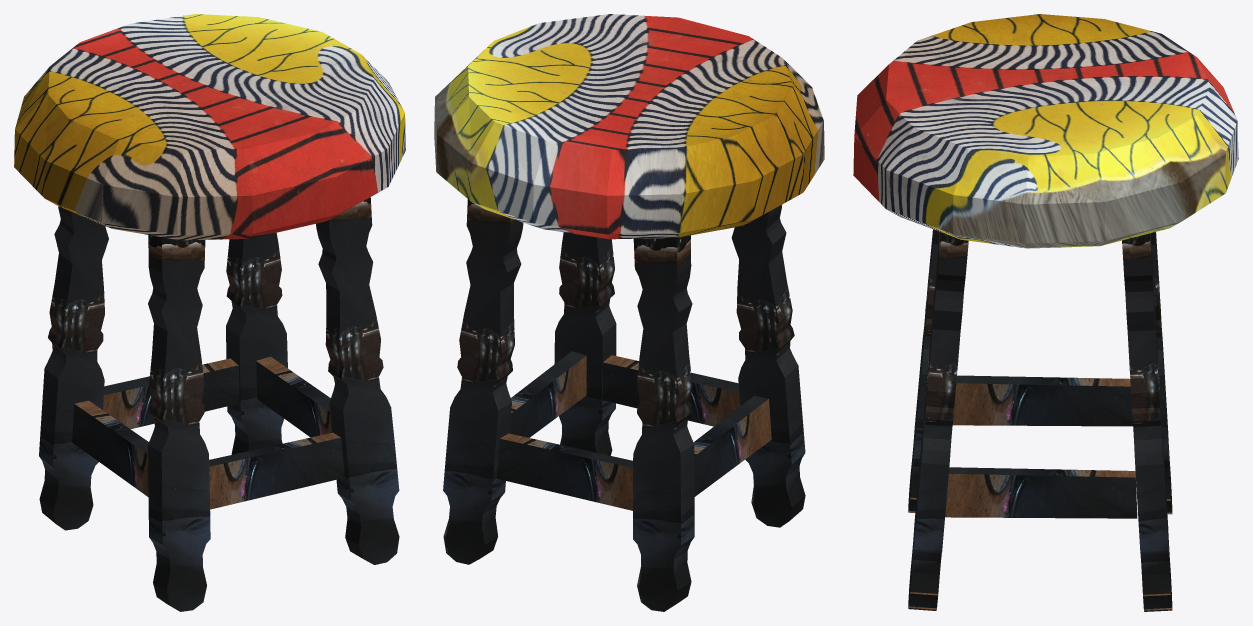
File: bar-stool.fbx
The picture shows the model from 3 angles, left to right: view 1: azimuth 30°, elevation 25°; view 2: azimuth 150°, elevation 25°; view 3: azimuth 270°, elevation 25°; orthographic projection. The views are drawn at different scales.
Parts seen in each view (by area): view 1: bar_stool; view 2: bar_stool; view 3: bar_stool.
Boxes of the visible parts, x1,y1,x2,y2 form: bar_stool: (14, 14, 405, 611); bar_stool: (434, 14, 824, 611); bar_stool: (853, 14, 1238, 611).
Bounding box in the file's own units: 62.76 × 81.44 × 60.21.
